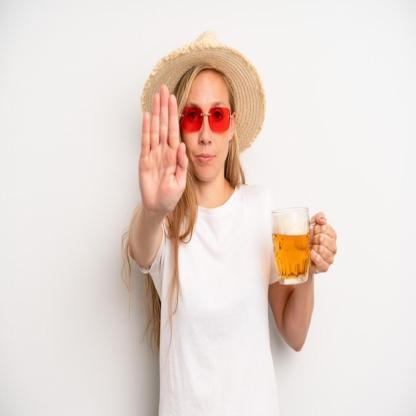stop: (136, 80, 192, 216)
